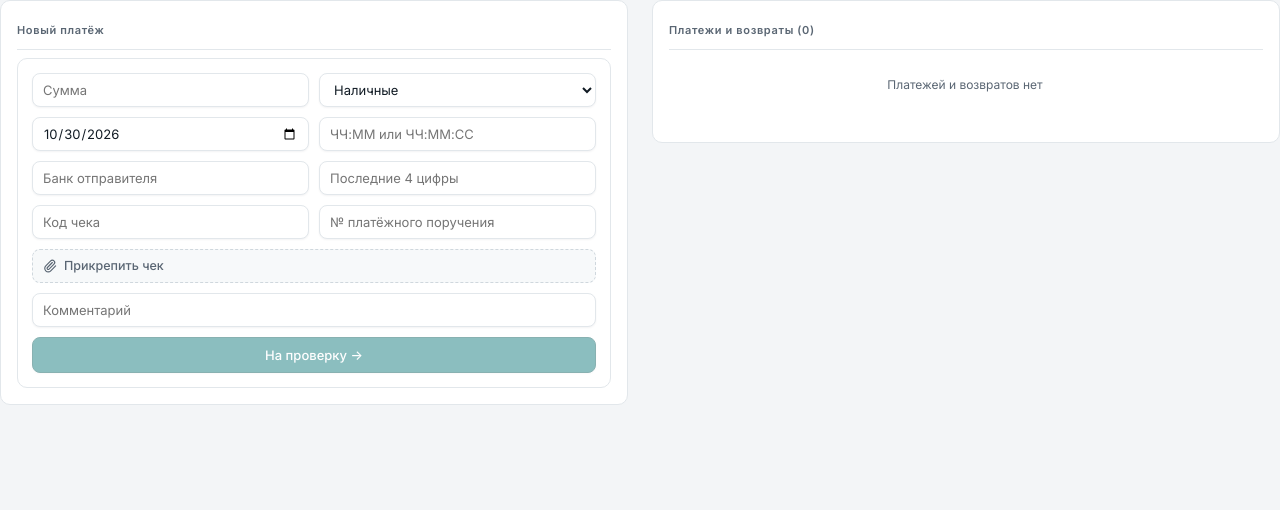
Test case: duplicate message identifies the original family and keeps the entered payment
The width and height of the screenshot is (1280, 510).
Type "6800" into the number field named "Сумма платежа" at coordinates (170, 90), box [32,73,309,107]
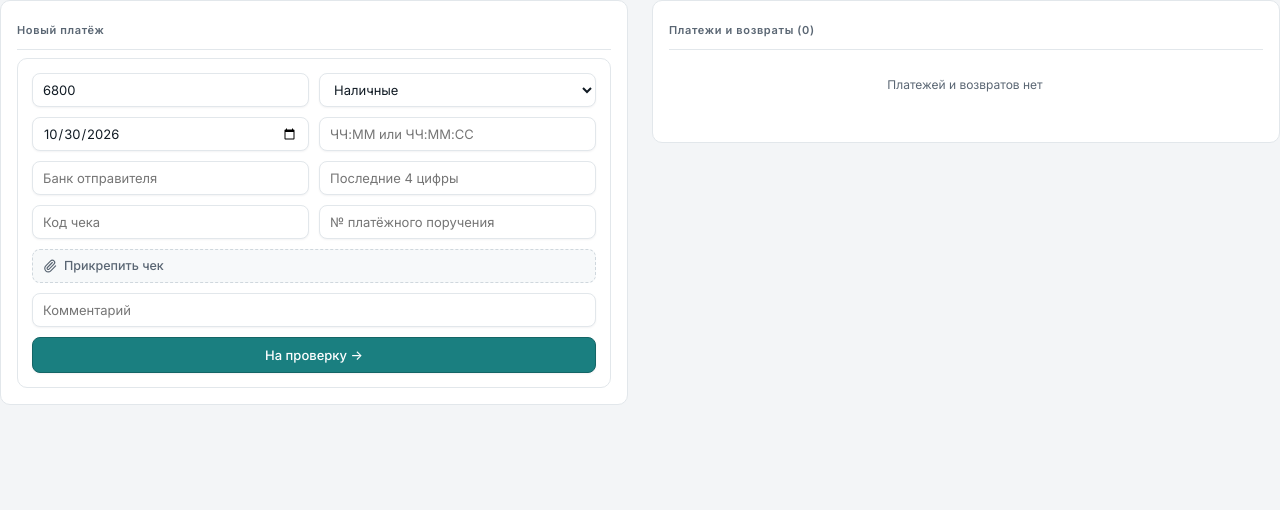
Click the button "На проверку →" at coordinates (314, 355), box [32,337,596,373]
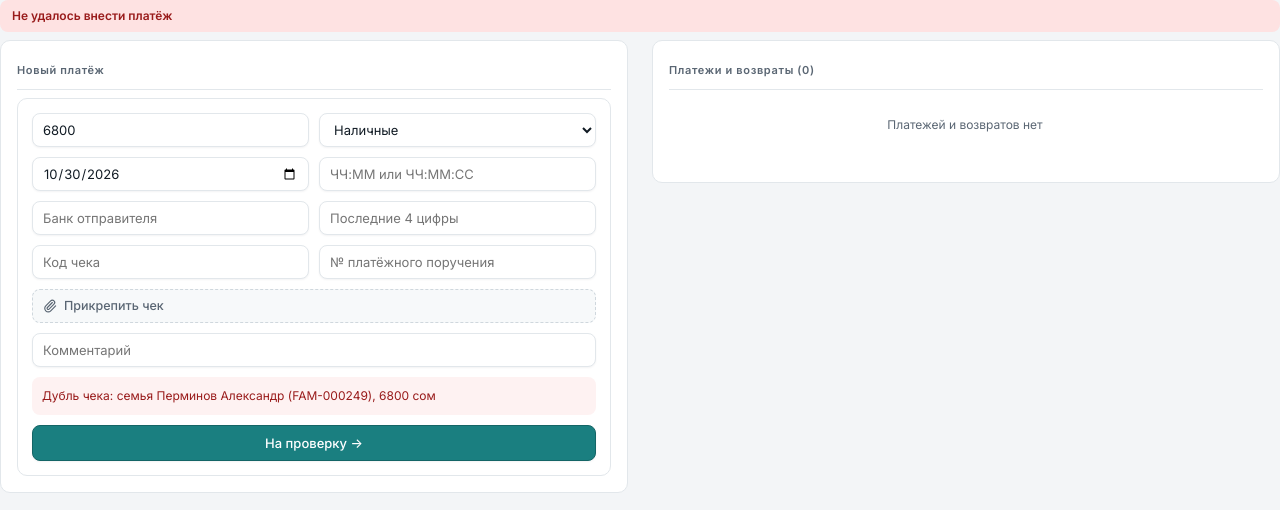
Expected: the message shows "FAM-000249", [42,388,436,403]
